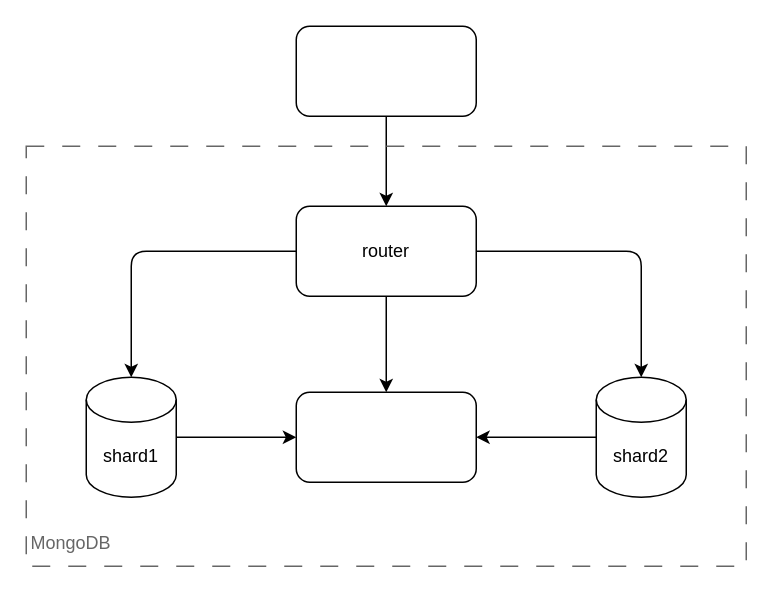
Some shapes in this 773 by 593 pixel diagram are drawn without their labels. The shapes that lost their labels are listed below. From the top down, each one's box as (x1, y1, x2, y2) in pixels, then its label:
(295, 25, 476, 116): pymongo-api
(295, 391, 476, 482): configSrv
